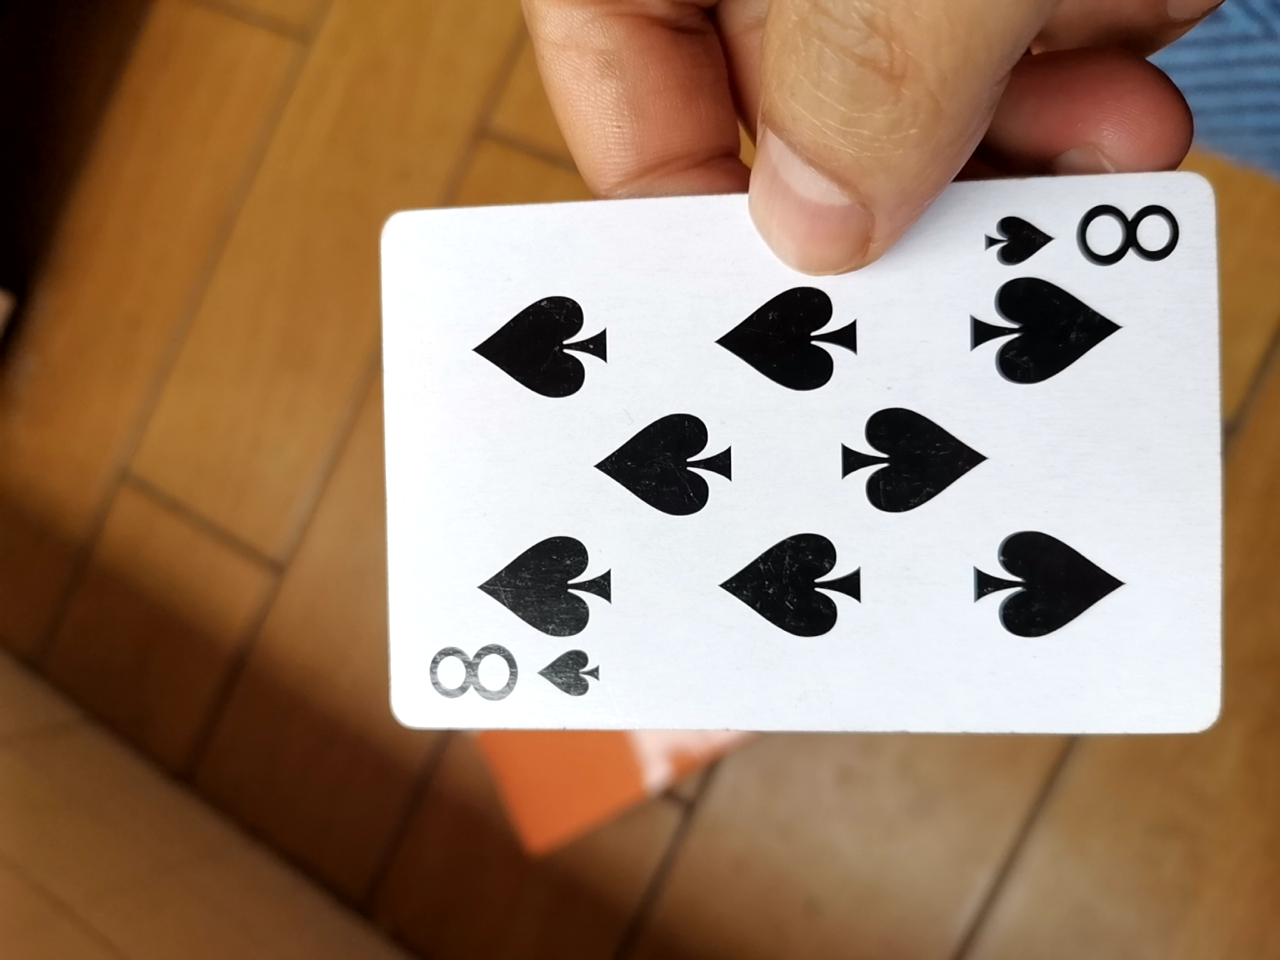ht 8: (359, 175, 1230, 749)
